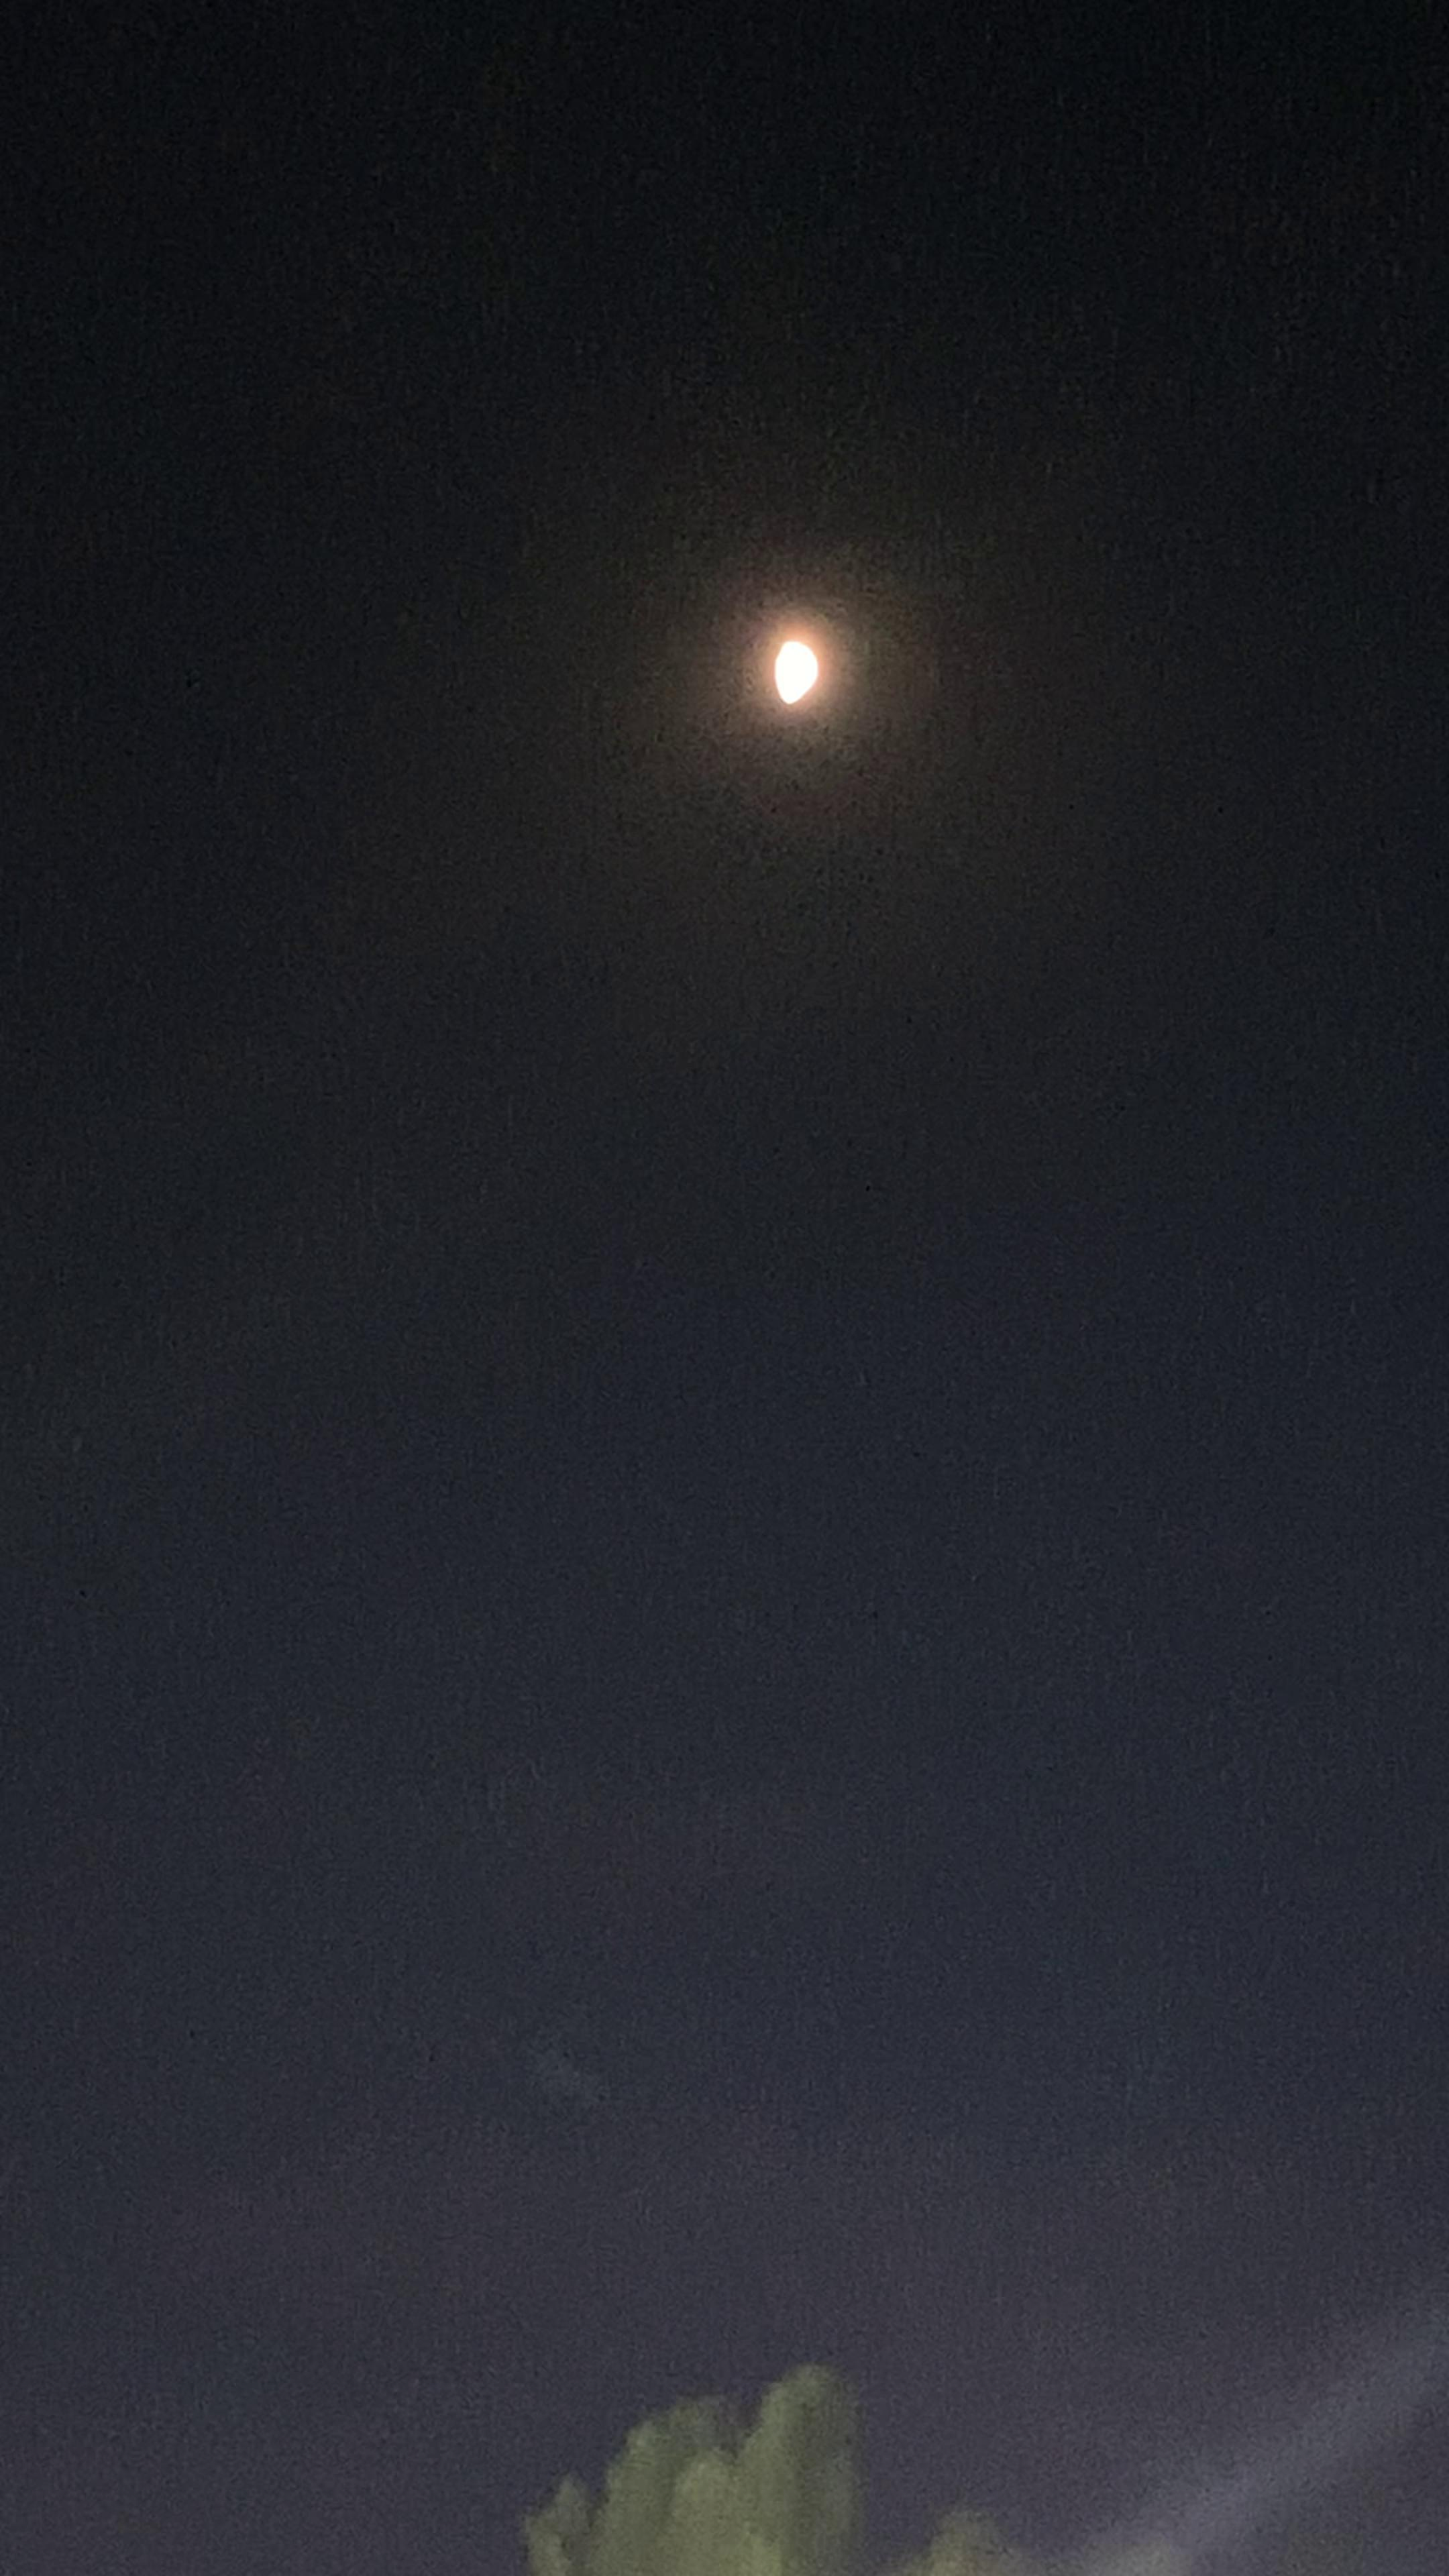moon: (711, 591, 872, 736)
